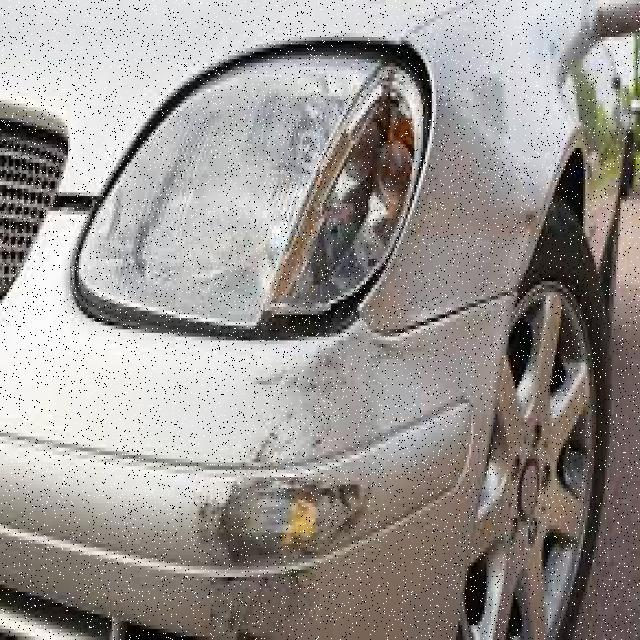front-bumper-dent: (112, 337, 516, 636)
